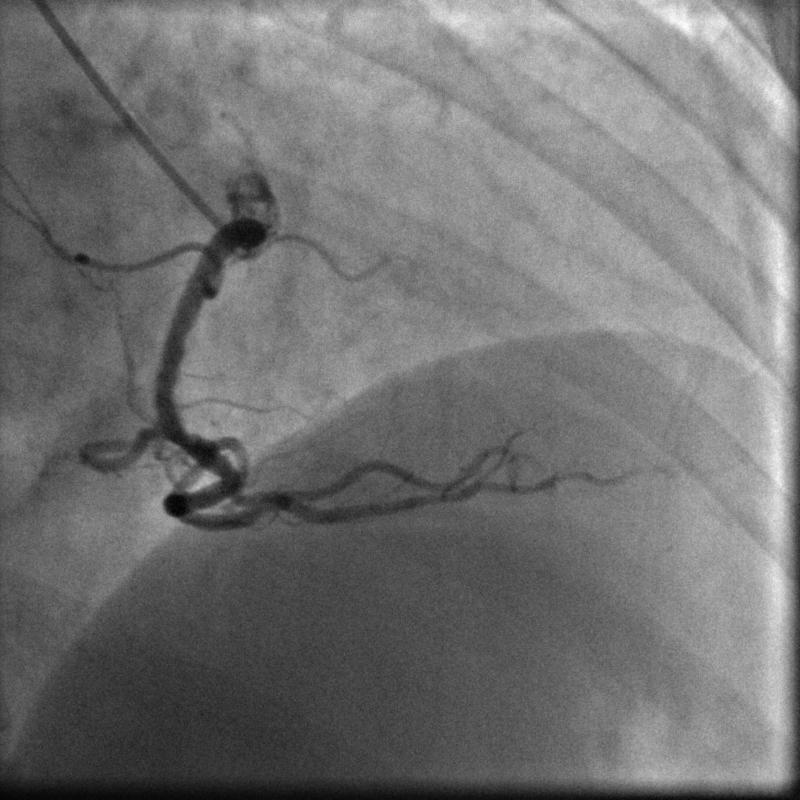Stenosis: (158, 420, 211, 455)
